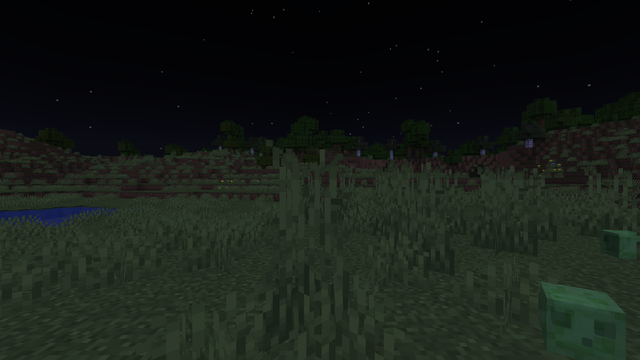slimes: (528, 282, 636, 355), (598, 229, 638, 259)
